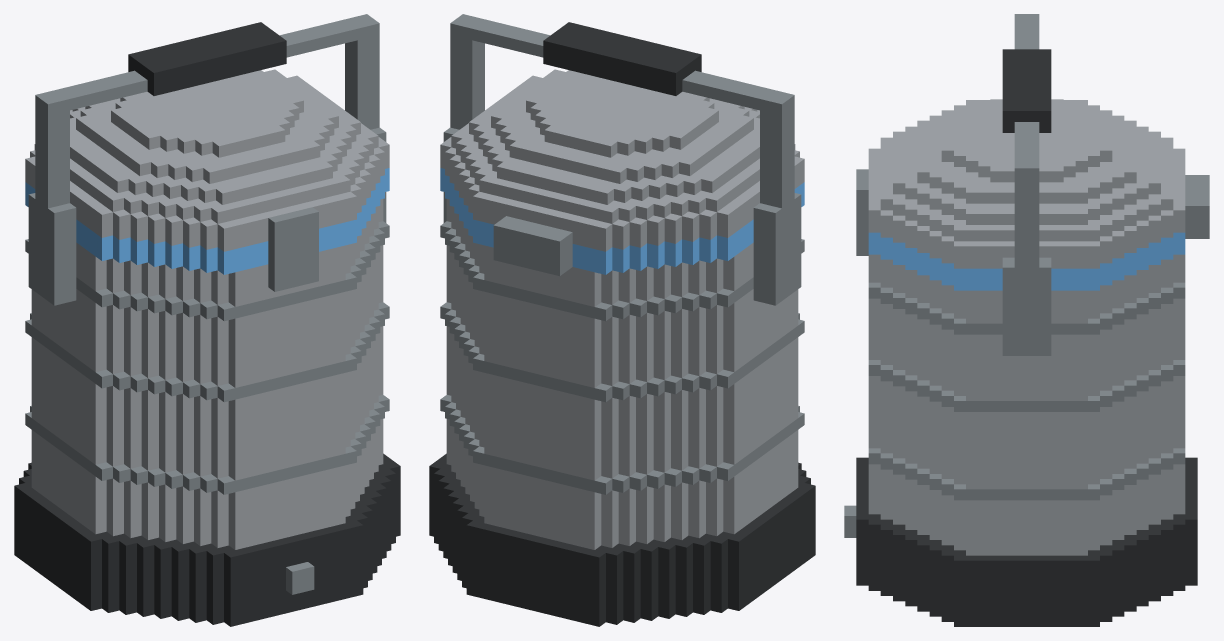
File: pyrokinetic_lamp.glb
3 renders of one model, left to right at view 1: azimuth 30°, elevation 25°; view 2: azimuth 150°, elevation 25°; view 3: azimuth 270°, elevation 25°, orthographic. The views are drawn at different scales.
Parts seen in each view (by area): view 1: pyrokinetic_lamp:compound; view 2: pyrokinetic_lamp:compound; view 3: pyrokinetic_lamp:compound.
Boxes of the visible parts, box(x1,y1,x2,y2) form: pyrokinetic_lamp:compound: box(14, 14, 400, 626); pyrokinetic_lamp:compound: box(429, 14, 815, 626); pyrokinetic_lamp:compound: box(844, 14, 1209, 626).
Bounding box in the file's own units: 0.12 × 0.172 × 0.12.
